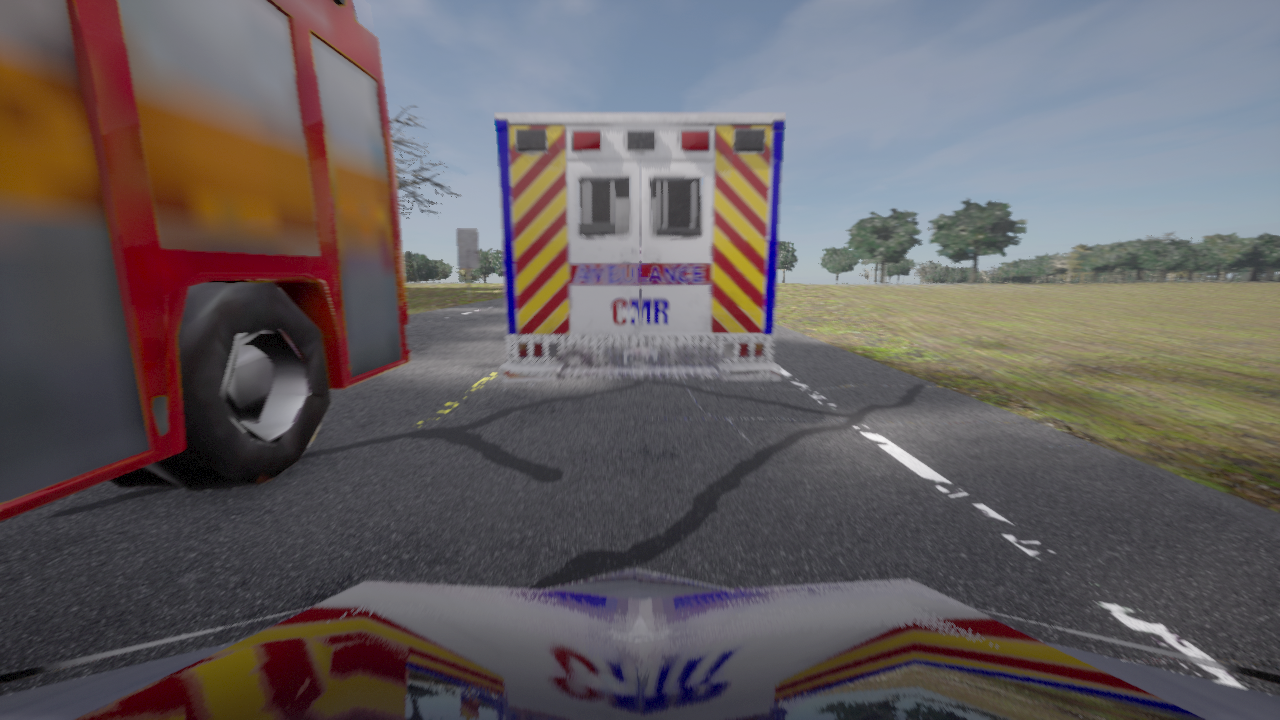cyclist: (0, 569, 1279, 719), (495, 113, 784, 382)
